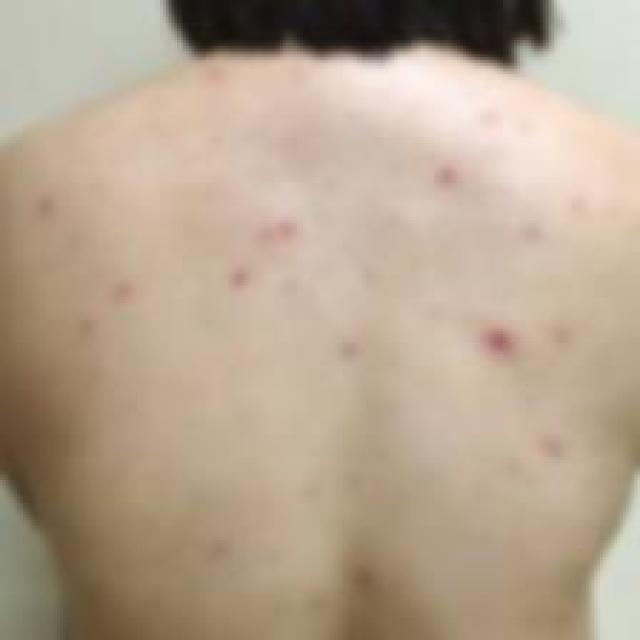others: (6, 110, 610, 640)
